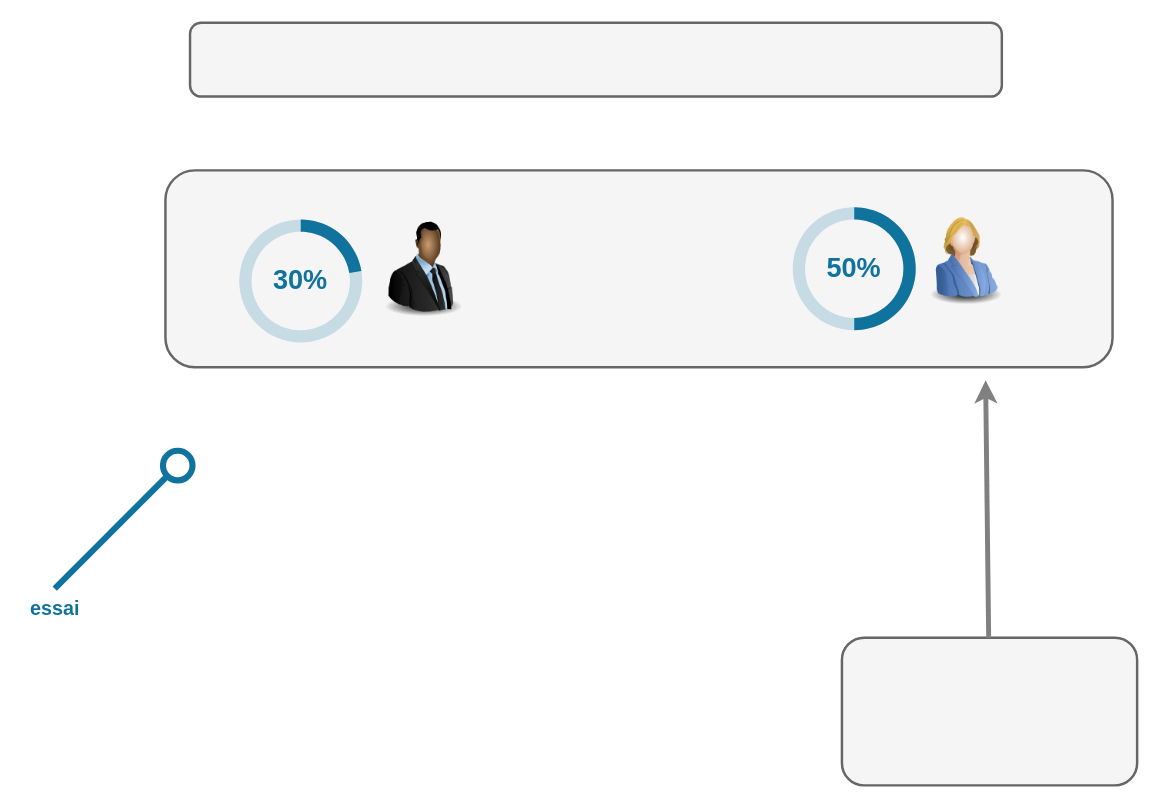
The diagram is 1160 pixels wide and 807 high, and some of its shapes have lost their labels. Each missing label, with the centre of its shape:
"dsdfSDFsdSDnnn" belongs at pixel 595 59.
"FsdfSDFGsdgasdgasd sdgsdsdsdasds qsdgsdqsdq sgasgasgarg" belongs at pixel 989 711.
